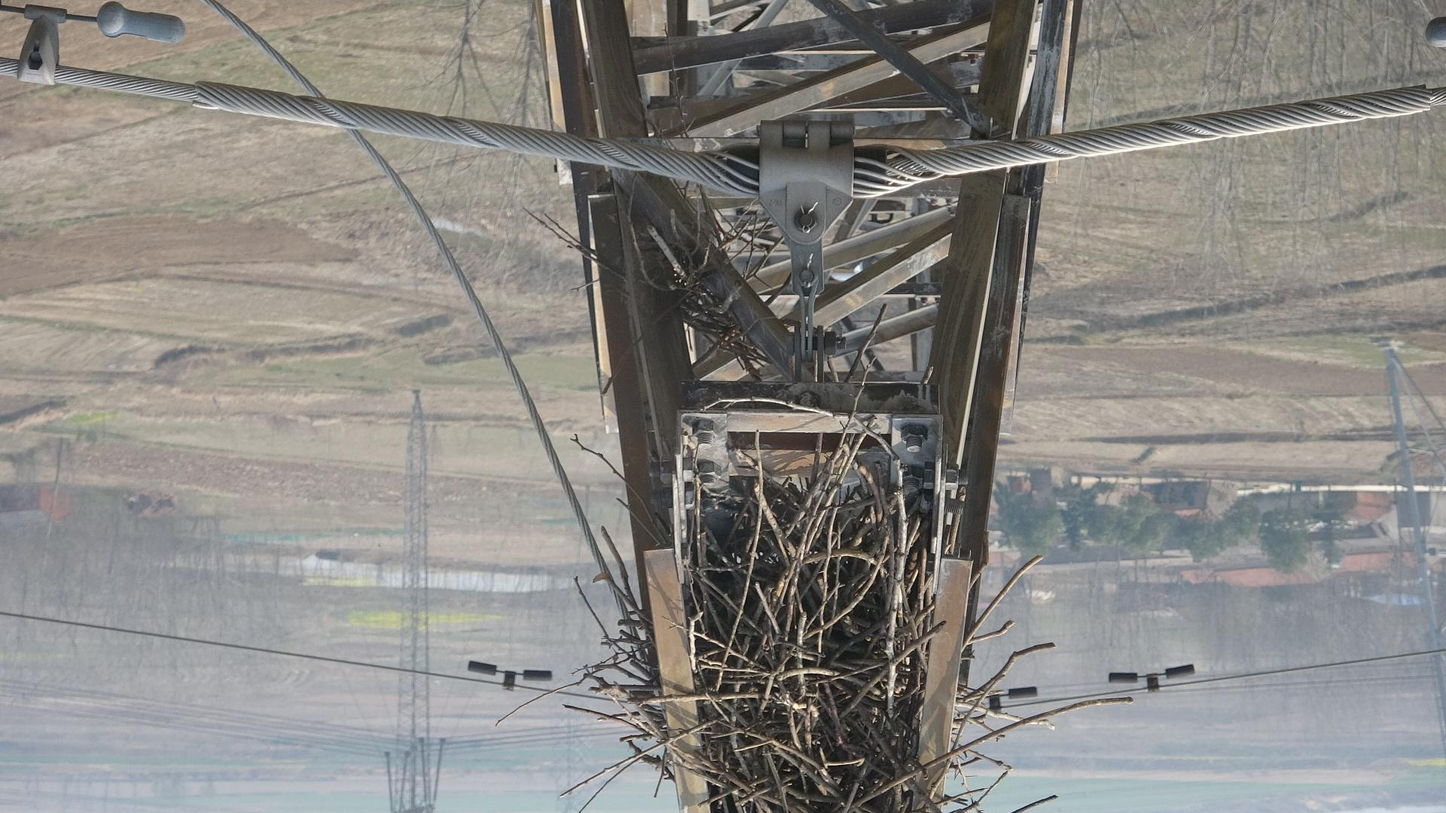damper: (462, 658, 556, 696), (1105, 660, 1198, 697)
nest: (594, 436, 993, 813), (593, 209, 769, 369)
